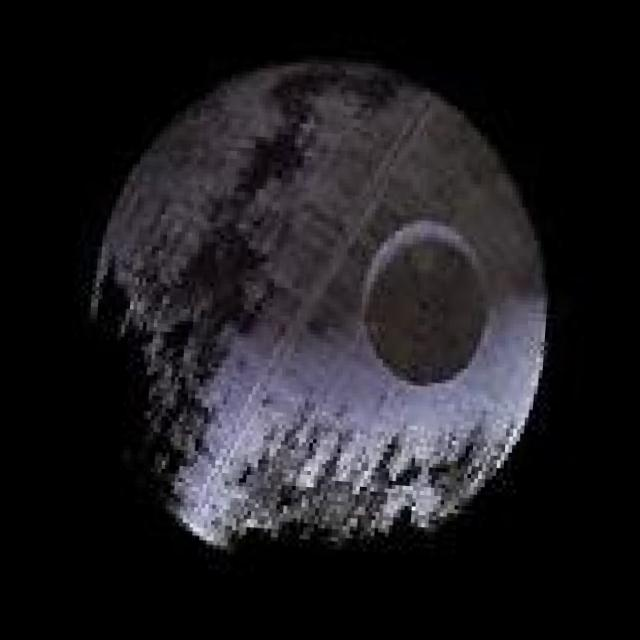Death Star: (65, 37, 572, 580)
